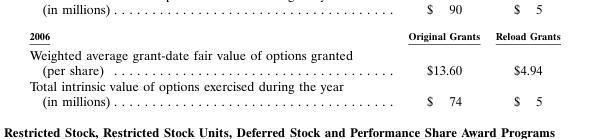table: (28, 29, 559, 108)
table column: (28, 29, 379, 108), (379, 29, 487, 108), (487, 29, 559, 108)
table column header: (28, 29, 559, 44)
table row: (28, 44, 559, 77), (28, 77, 559, 108), (28, 29, 559, 44)
